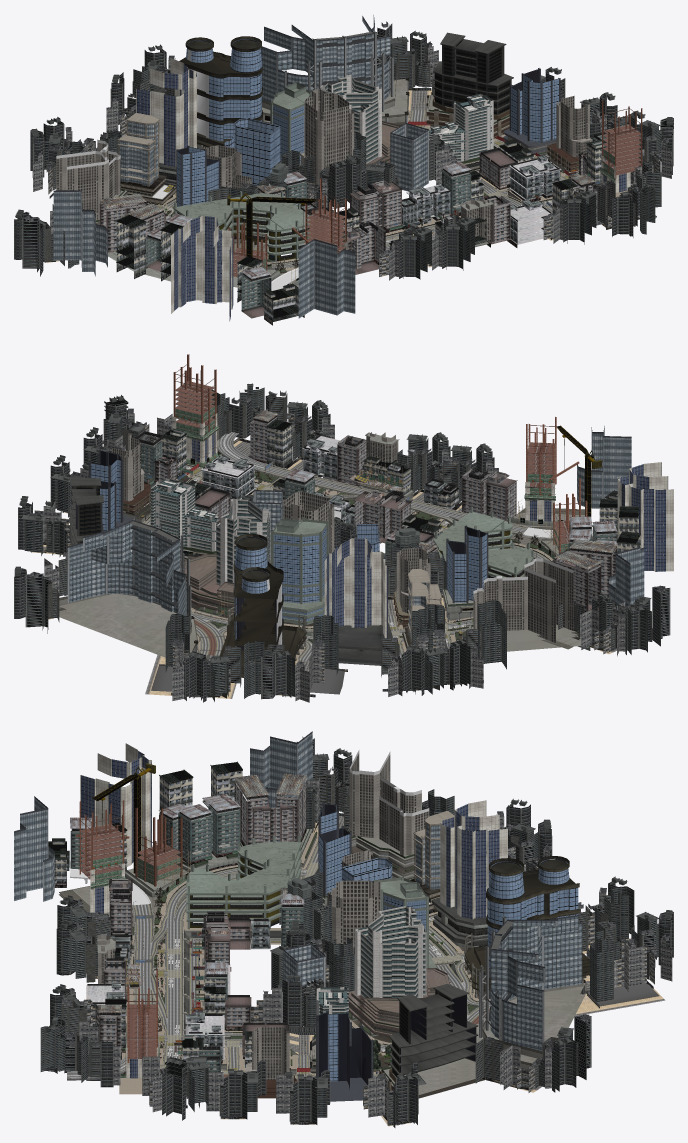
Rendered from city-full.glb.
The picture shows the model from 3 angles, top to bottom: view 1: azimuth 30°, elevation 25°; view 2: azimuth 150°, elevation 25°; view 3: azimuth 270°, elevation 25°; orthographic projection. The views are drawn at different scales.
Parts seen in each view (by area): view 1: backdrop_grp_001_mdl_001_sub_000_material_081_0, backdrop_grp_001_mdl_004_sub_000_material_081_0, unit_000_sub_037_material_037_0, unit_011_sub_022_material_060_0, unit_015_sub_021_material_037_0, unit_001_sub_039_material_045_0, unit_011_sub_024_material_066_0, unit_003_sub_029_material_049_0, unit_000_sub_035_material_035_0, unit_019_sub_021_material_045_0, unit_020_sub_027_material_054_0, unit_003_sub_028_material_034_0 (+35 smaller); view 2: backdrop_grp_001_mdl_004_sub_000_material_081_0, backdrop_grp_001_mdl_001_sub_000_material_081_0, unit_015_sub_021_material_037_0, unit_020_sub_027_material_054_0, unit_011_sub_001_material_003_0, unit_019_sub_021_material_045_0, unit_011_sub_022_material_060_0, unit_001_sub_039_material_045_0, unit_003_sub_028_material_034_0, backdrop_grp_001_mdl_002_sub_000_material_081_0, unit_017_sub_018_material_072_0, unit_000_sub_034_material_034_0 (+43 smaller); view 3: backdrop_grp_001_mdl_001_sub_000_material_081_0, backdrop_grp_001_mdl_004_sub_000_material_081_0, unit_015_sub_021_material_037_0, backdrop_grp_001_mdl_002_sub_000_material_081_0, unit_014_sub_023_material_070_0, unit_019_sub_021_material_045_0, unit_000_sub_005_material_005_0, unit_000_sub_037_material_037_0, unit_011_sub_024_material_066_0, unit_020_sub_027_material_054_0, unit_000_sub_034_material_034_0, unit_001_sub_039_material_045_0 (+46 smaller).
Boxes of the visible parts, bbox=[...] form: backdrop_grp_001_mdl_001_sub_000_material_081_0: bbox=[208, 69, 673, 280]; backdrop_grp_001_mdl_004_sub_000_material_081_0: bbox=[14, 44, 175, 276]; unit_000_sub_037_material_037_0: bbox=[53, 191, 355, 318]; unit_011_sub_022_material_060_0: bbox=[186, 39, 538, 162]; unit_015_sub_021_material_037_0: bbox=[260, 16, 390, 102]; unit_001_sub_039_material_045_0: bbox=[171, 216, 348, 321]; unit_011_sub_024_material_066_0: bbox=[433, 32, 513, 114]; unit_003_sub_029_material_049_0: bbox=[401, 155, 561, 244]; unit_000_sub_035_material_035_0: bbox=[116, 207, 396, 321]; unit_019_sub_021_material_045_0: bbox=[136, 58, 196, 166]; unit_020_sub_027_material_054_0: bbox=[56, 142, 251, 220]; unit_003_sub_028_material_034_0: bbox=[349, 149, 597, 244]; backdrop_grp_001_mdl_004_sub_000_material_081_0: bbox=[145, 585, 670, 702]; backdrop_grp_001_mdl_001_sub_000_material_081_0: bbox=[22, 383, 498, 615]; unit_015_sub_021_material_037_0: bbox=[67, 523, 186, 615]; unit_020_sub_027_material_054_0: bbox=[396, 548, 573, 642]; unit_011_sub_001_material_003_0: bbox=[59, 549, 234, 657]; unit_019_sub_021_material_045_0: bbox=[324, 538, 387, 638]; unit_011_sub_022_material_060_0: bbox=[90, 460, 326, 646]; unit_001_sub_039_material_045_0: bbox=[525, 462, 673, 571]; unit_003_sub_028_material_034_0: bbox=[144, 417, 456, 543]; backdrop_grp_001_mdl_002_sub_000_material_081_0: bbox=[14, 496, 70, 633]; unit_017_sub_018_material_072_0: bbox=[220, 533, 580, 677]; unit_000_sub_034_material_034_0: bbox=[419, 468, 616, 612]; backdrop_grp_001_mdl_001_sub_000_material_081_0: bbox=[40, 864, 400, 1127]; backdrop_grp_001_mdl_004_sub_000_material_081_0: bbox=[296, 736, 673, 1016]; unit_015_sub_021_material_037_0: bbox=[490, 916, 582, 1051]; backdrop_grp_001_mdl_002_sub_000_material_081_0: bbox=[363, 1014, 591, 1126]; unit_014_sub_023_material_070_0: bbox=[354, 906, 426, 997]; unit_019_sub_021_material_045_0: bbox=[440, 800, 507, 919]; unit_000_sub_005_material_005_0: bbox=[186, 835, 301, 929]; unit_000_sub_037_material_037_0: bbox=[14, 733, 312, 901]; unit_011_sub_024_material_066_0: bbox=[389, 983, 478, 1076]; unit_020_sub_027_material_054_0: bbox=[327, 753, 429, 905]; unit_000_sub_034_material_034_0: bbox=[70, 779, 306, 949]; unit_001_sub_039_material_045_0: bbox=[80, 743, 151, 913].
Size of the model in its own units: 829 by 161 by 707.
99 materials, 98 textured.
